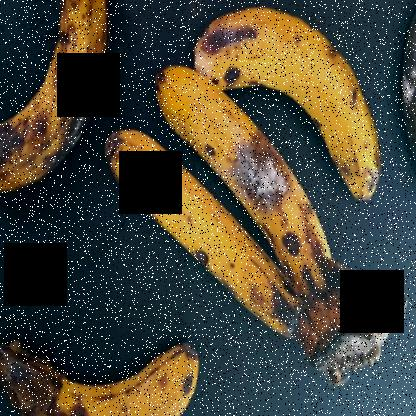ripe: (107, 125, 306, 358), (199, 0, 381, 208)
rotten: (0, 0, 113, 207), (0, 330, 222, 415), (391, 0, 415, 183)
